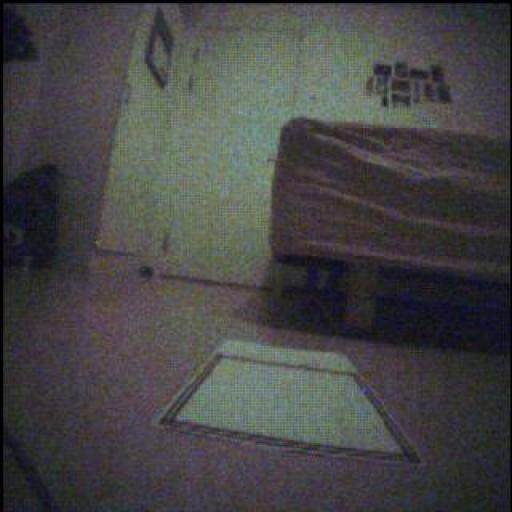pad: (156, 342, 422, 463)
